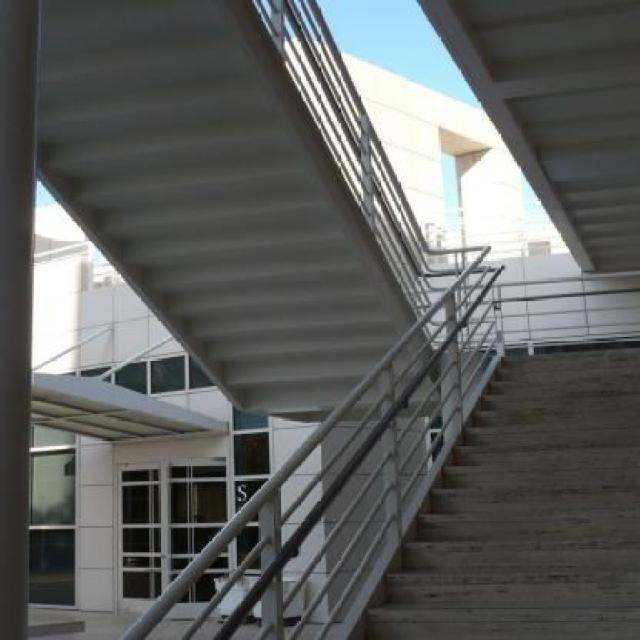stair: (364, 347, 640, 640)
